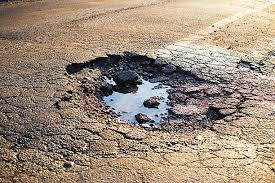pothole: (65, 50, 275, 142), (1, 118, 59, 173)
